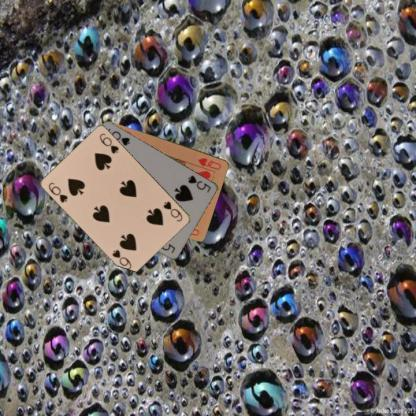5s: (186, 172, 212, 194)
6s: (160, 198, 184, 223), (46, 180, 70, 204)
Qh: (196, 155, 223, 171)
